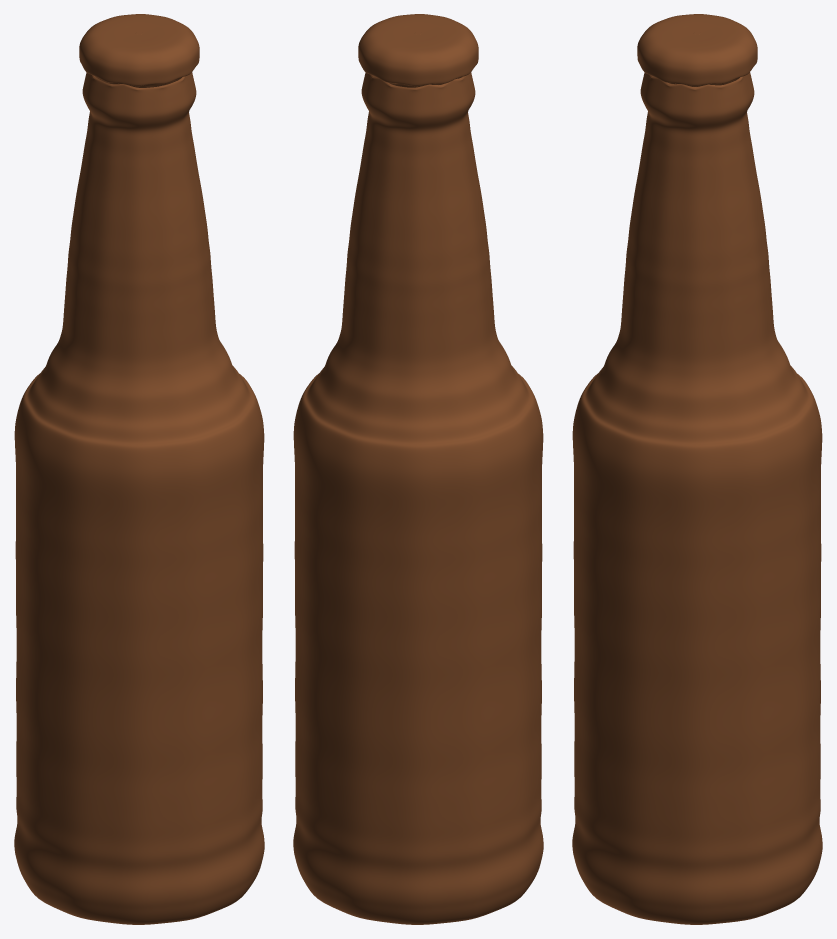
File: beer.fbx
The picture shows the model from 3 angles, left to right: view 1: azimuth 30°, elevation 25°; view 2: azimuth 150°, elevation 25°; view 3: azimuth 270°, elevation 25°; orthographic projection.
Parts seen in each view (by area): view 1: Cube.001; view 2: Cube.001; view 3: Cube.001.
Part boxes in pixels (x1,y1,x2,y2): Cube.001: (14,14,264,924); Cube.001: (293,14,543,924); Cube.001: (572,14,822,924).
Bounding box in the file's own units: 119 × 443 × 119.
